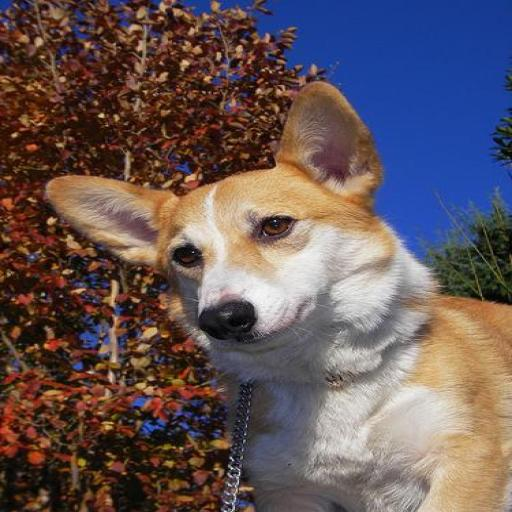dog_face: (62, 88, 408, 350)
